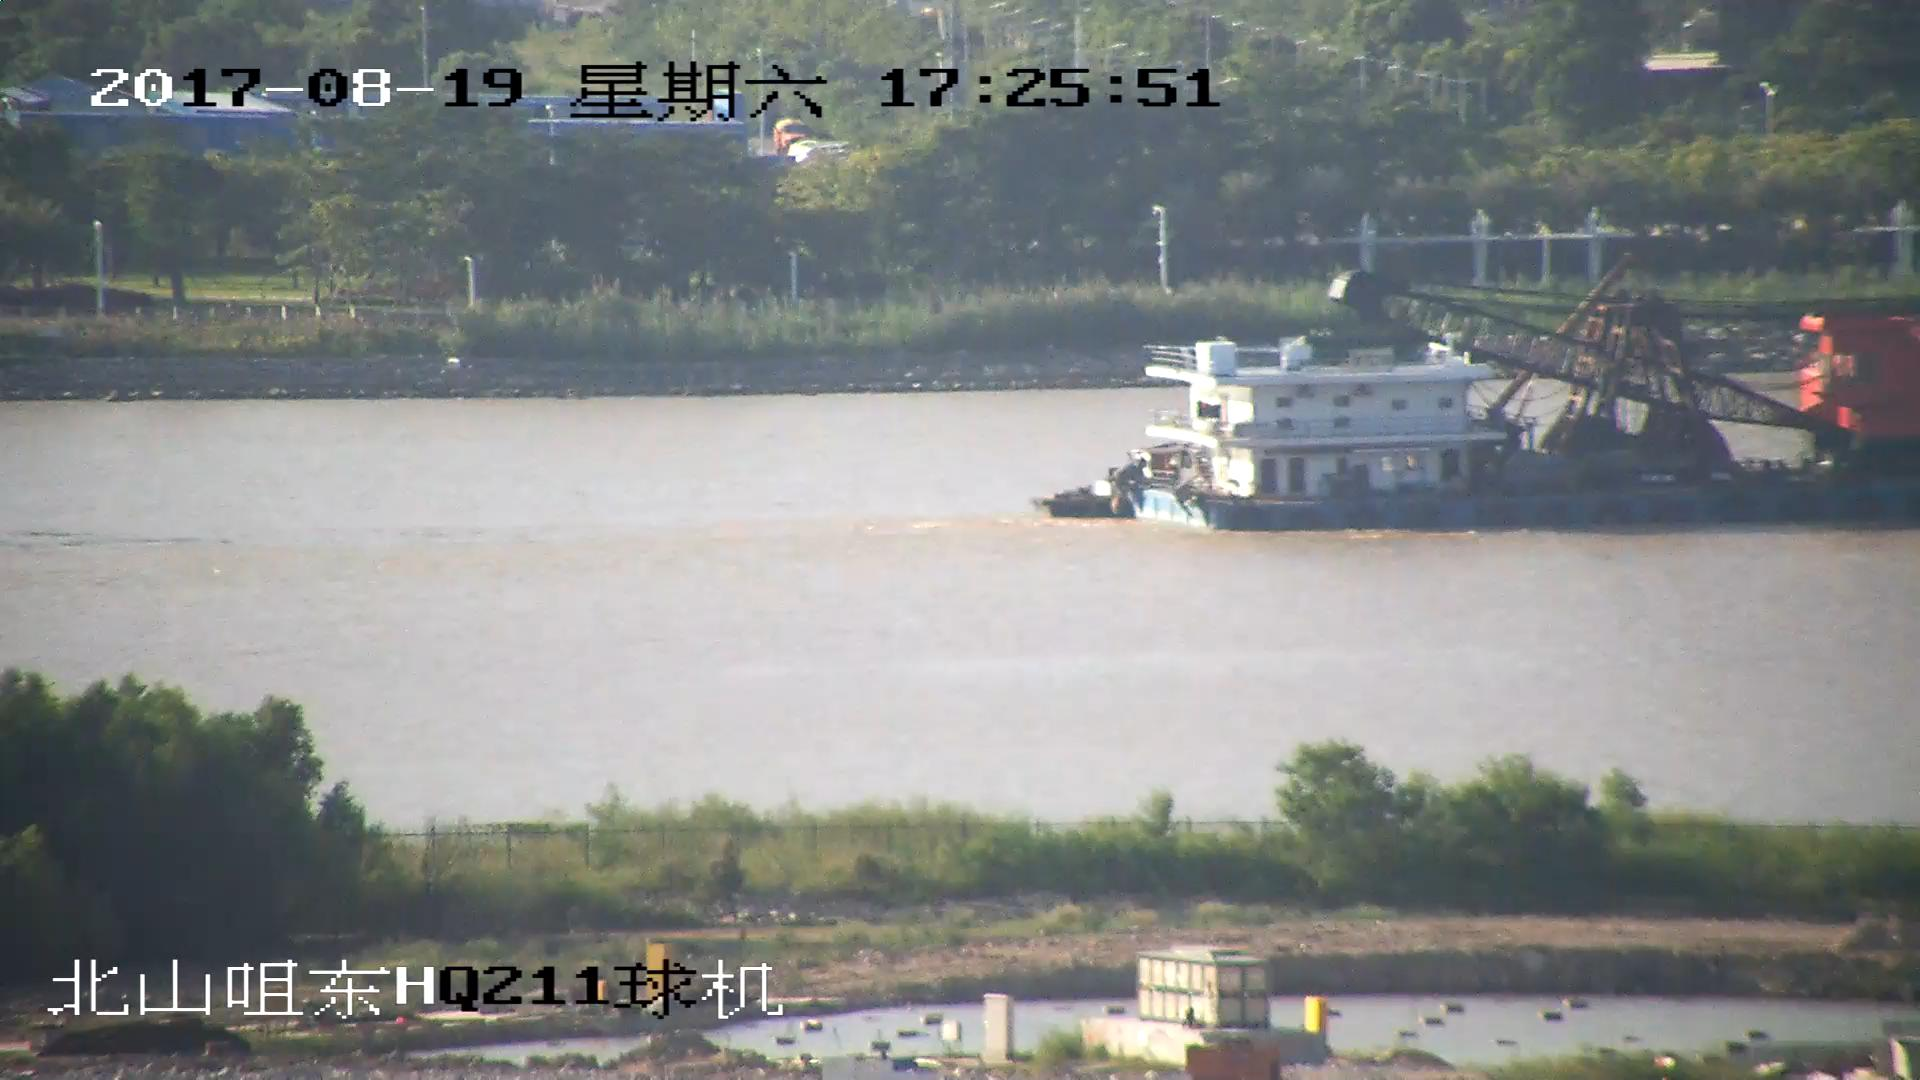fishing boat: (1042, 266, 1920, 527)
